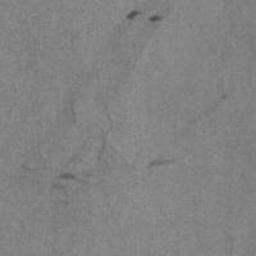Water spot: (19, 0, 182, 219), (150, 156, 178, 168), (220, 92, 227, 99)
